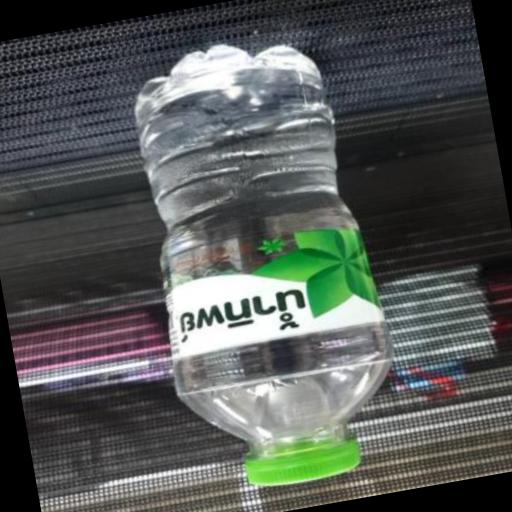Coca: (106, 10, 424, 504)
